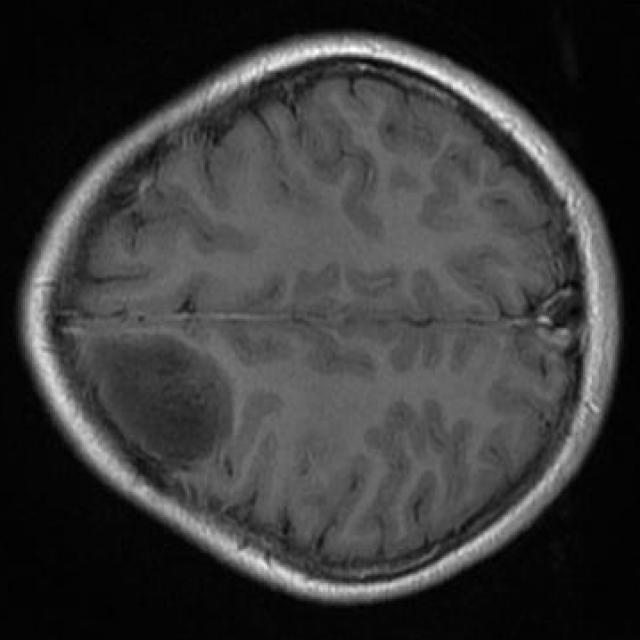glioma: (82, 332, 234, 471)
